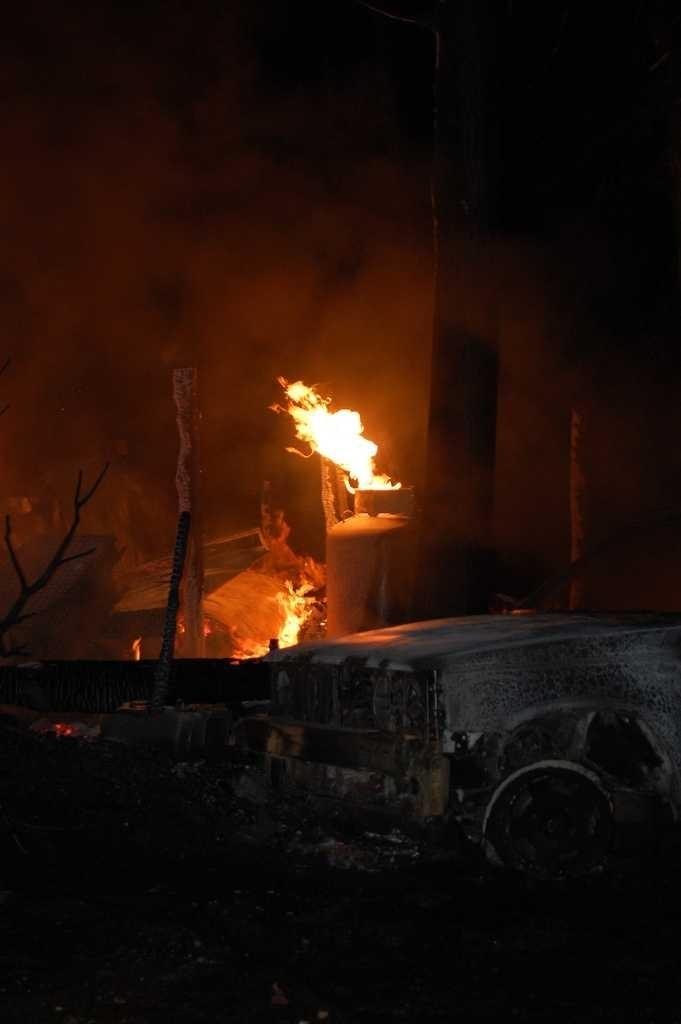fire: (310, 410, 388, 488)
